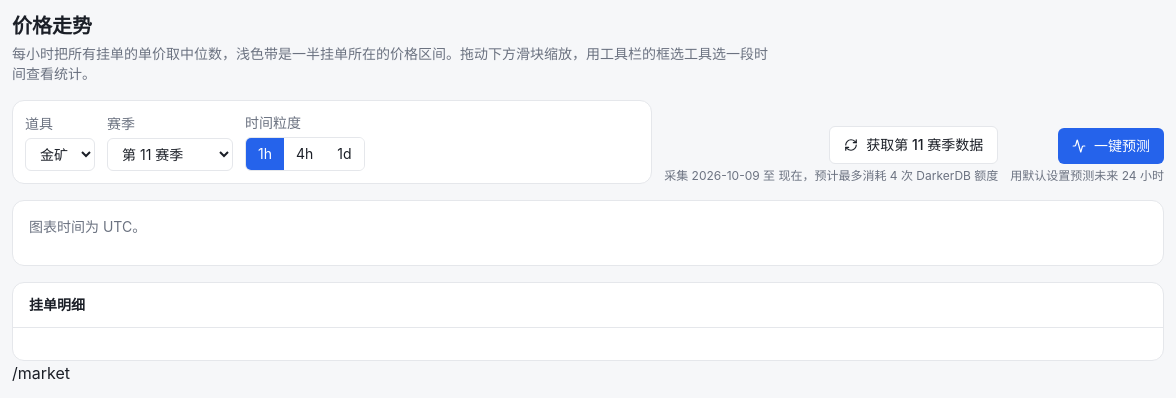
Test: gets the latest data for the shown item and redraws when it is done
Expected: the text "采集 2026-10-09 至 现在，预计最多消耗 4 次 DarkerDB 额度" is shown, [664, 168, 998, 184]
Step 1. Click the button "获取第 11 赛季数据" → (914, 145), box [829, 126, 998, 164]
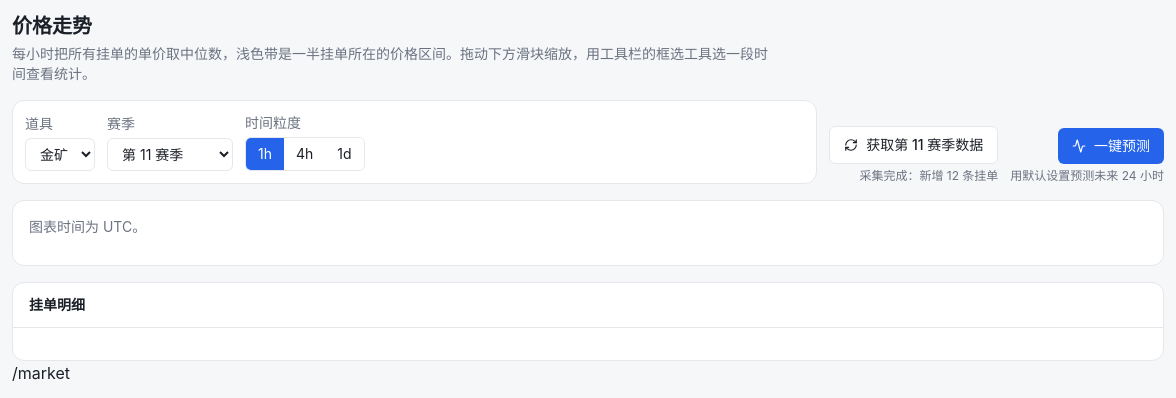
Result: the text "采集完成：新增 12 条挂单" is shown at [859, 168, 998, 184]
